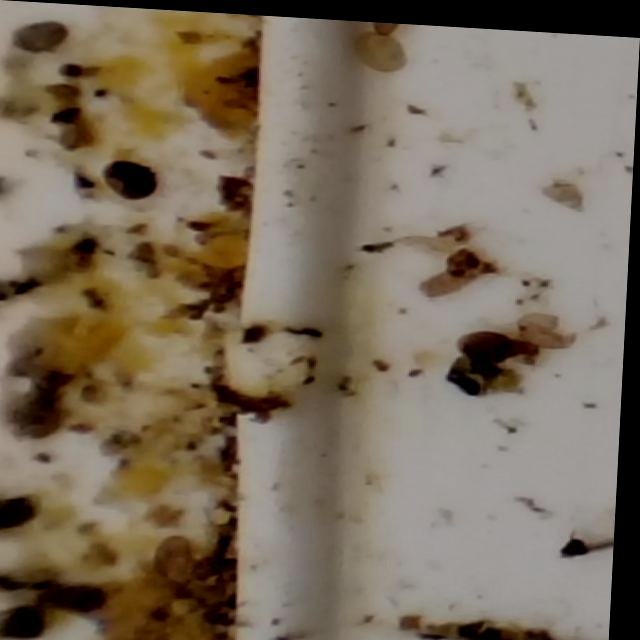varroa: (447, 321, 525, 360), (102, 159, 168, 203)
